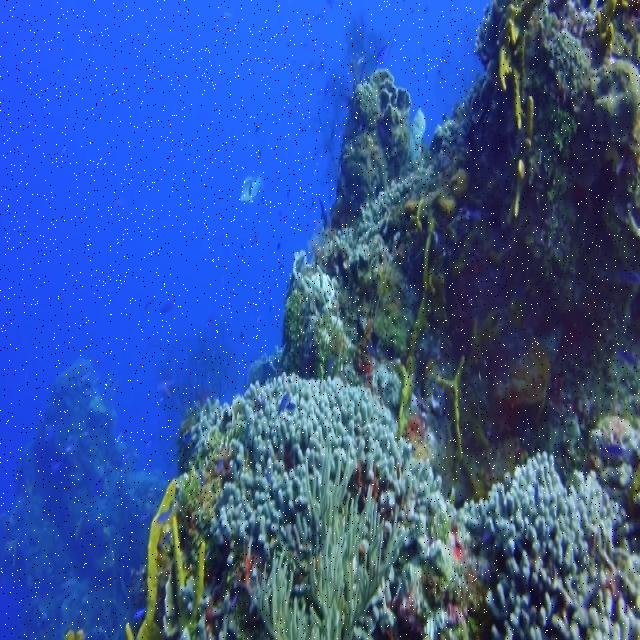aquatic plants: (252, 444, 408, 639)
fish: (239, 175, 262, 206)
reefs: (189, 374, 449, 557), (462, 451, 639, 639)
sea-floor: (248, 0, 639, 556)
